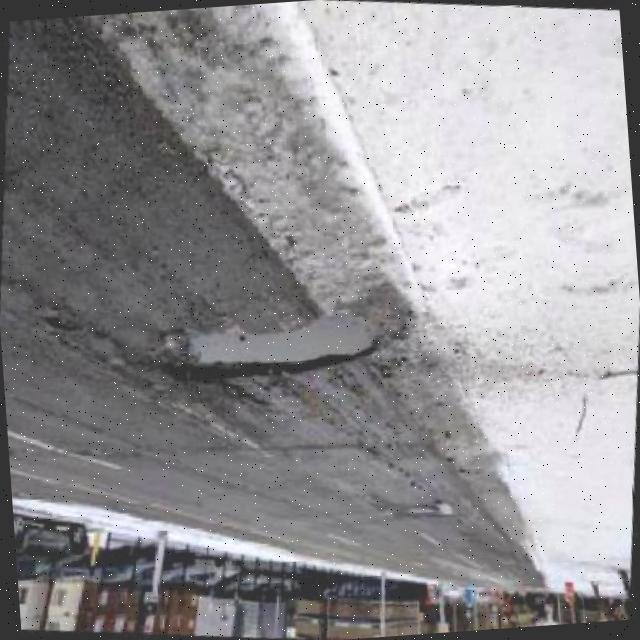Pothole: (149, 301, 397, 379)
